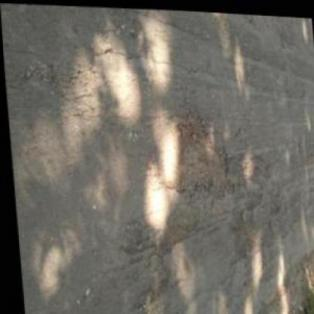Hueco: (144, 99, 236, 196)
